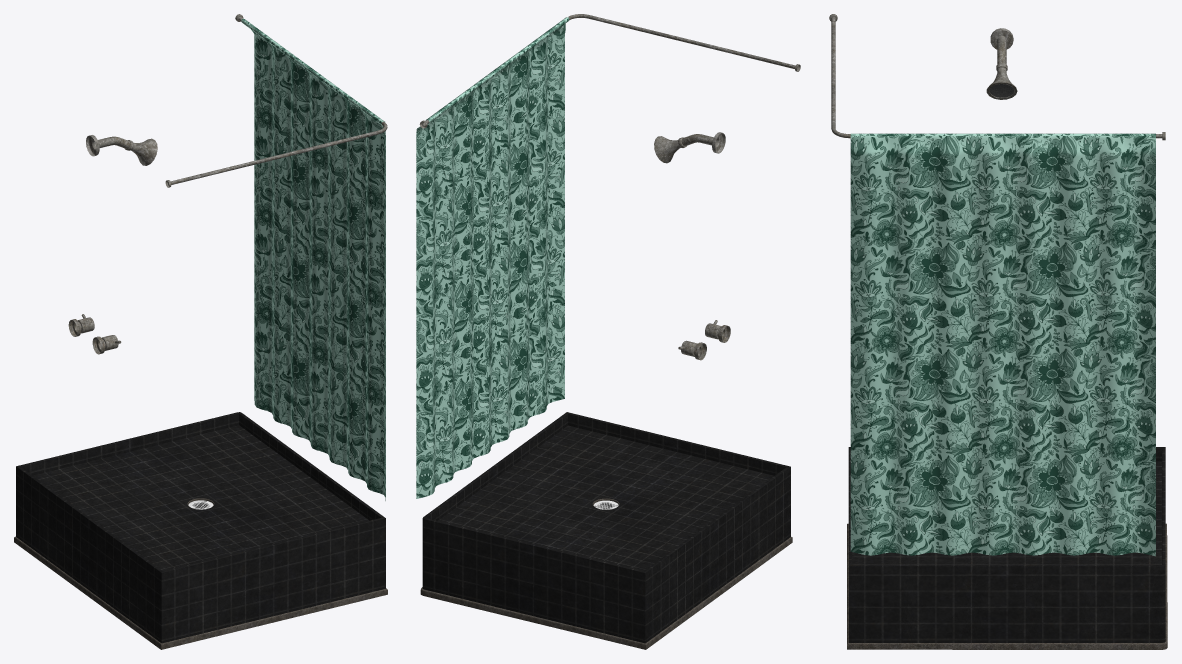
Rendered from ShowerClosed.FBX.
3 views of the same model, side by side, from view 1: azimuth 30°, elevation 25°; view 2: azimuth 150°, elevation 25°; view 3: azimuth 270°, elevation 25° (orthographic). The views are drawn at different scales.
Parts seen in each view (by area): view 1: ShowerClosed; view 2: ShowerClosed; view 3: ShowerClosed.
Boxes of the visible parts, box(x1,y1,x2,y2) form: ShowerClosed: box(14, 14, 387, 649); ShowerClosed: box(416, 14, 800, 649); ShowerClosed: box(829, 14, 1167, 649).
Size of the model in its own units: 82.54 by 159 by 94.55.
